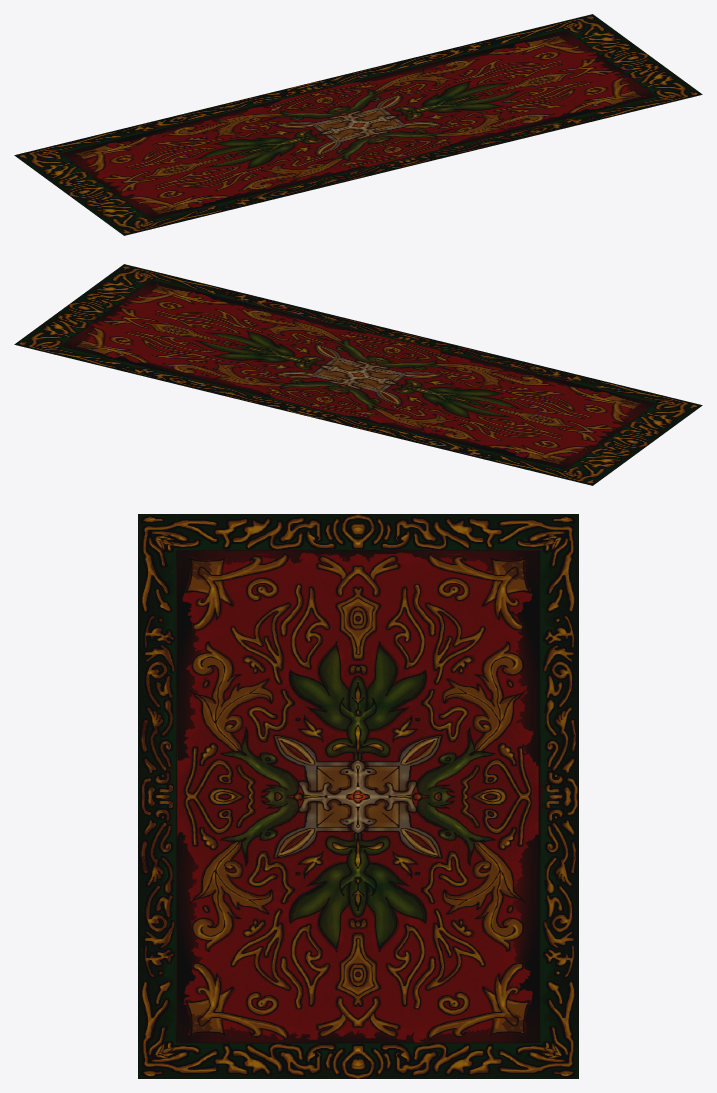
The model's file is rug.fbx.
3 renders of one model, top to bottom at view 1: azimuth 30°, elevation 25°; view 2: azimuth 150°, elevation 25°; view 3: azimuth 270°, elevation 25°, orthographic. The views are drawn at different scales.
Parts seen in each view (by area): view 1: rug; view 2: rug; view 3: rug.
Boxes of the visible parts, bbox=[...] form: rug: bbox=[14, 14, 702, 235]; rug: bbox=[14, 264, 702, 485]; rug: bbox=[138, 514, 578, 1078].
Size of the model in its own units: 607 by 3.26e-05 by 200.
